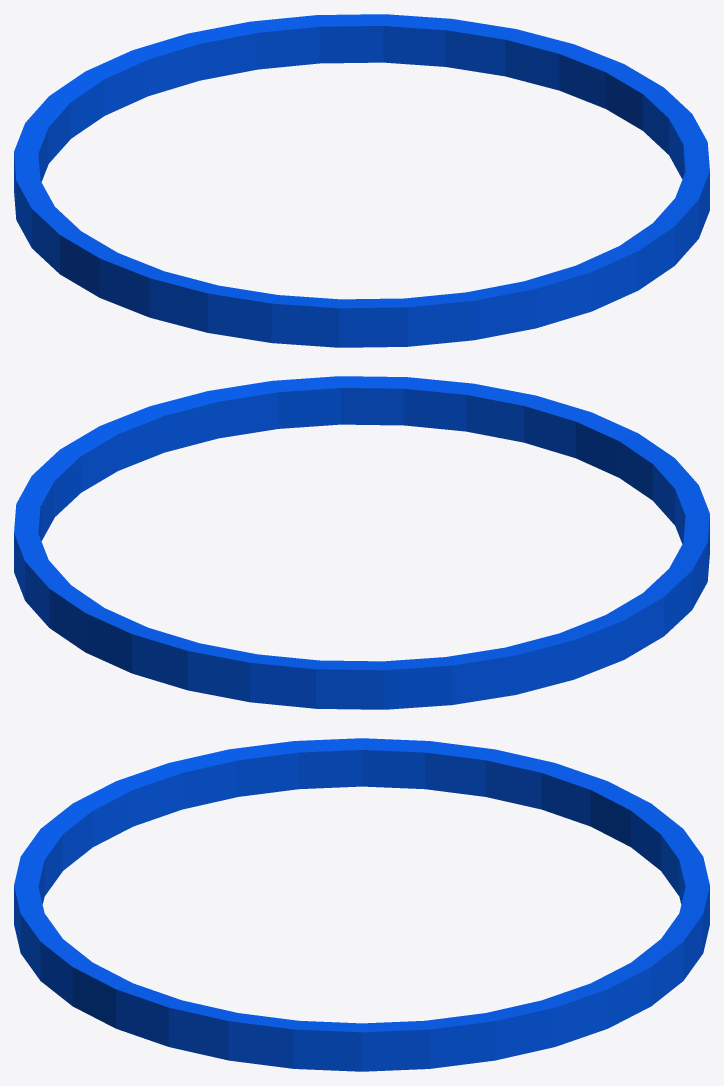
3 renders of one model, top to bottom at view 1: azimuth 30°, elevation 25°; view 2: azimuth 150°, elevation 25°; view 3: azimuth 270°, elevation 25°, orthographic.
Visible parts, largest first — view 1: Cilindro; view 2: Cilindro; view 3: Cilindro.
Boxes of the visible parts, x1=… form: Cilindro: x1=14, y1=14, x2=709, y2=347; Cilindro: x1=14, y1=376, x2=709, y2=709; Cilindro: x1=14, y1=738, x2=709, y2=1071.
Size of the model in its own units: 0.3416 by 0.0214 by 0.3416.
